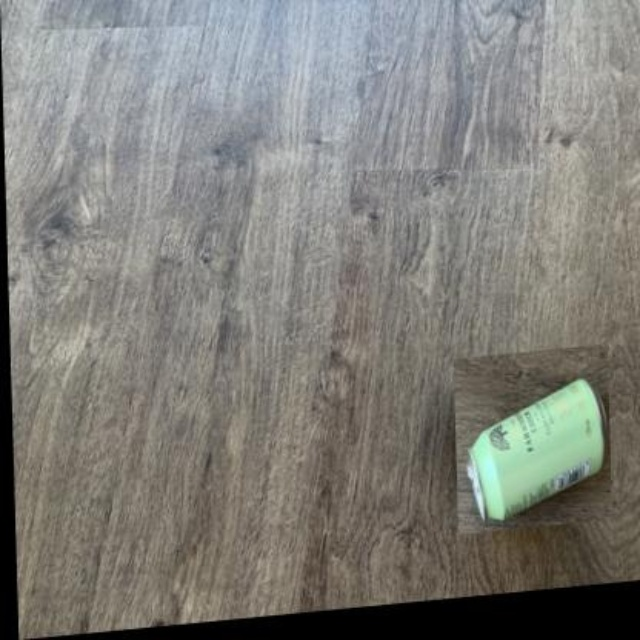trash: (468, 378, 603, 520)
